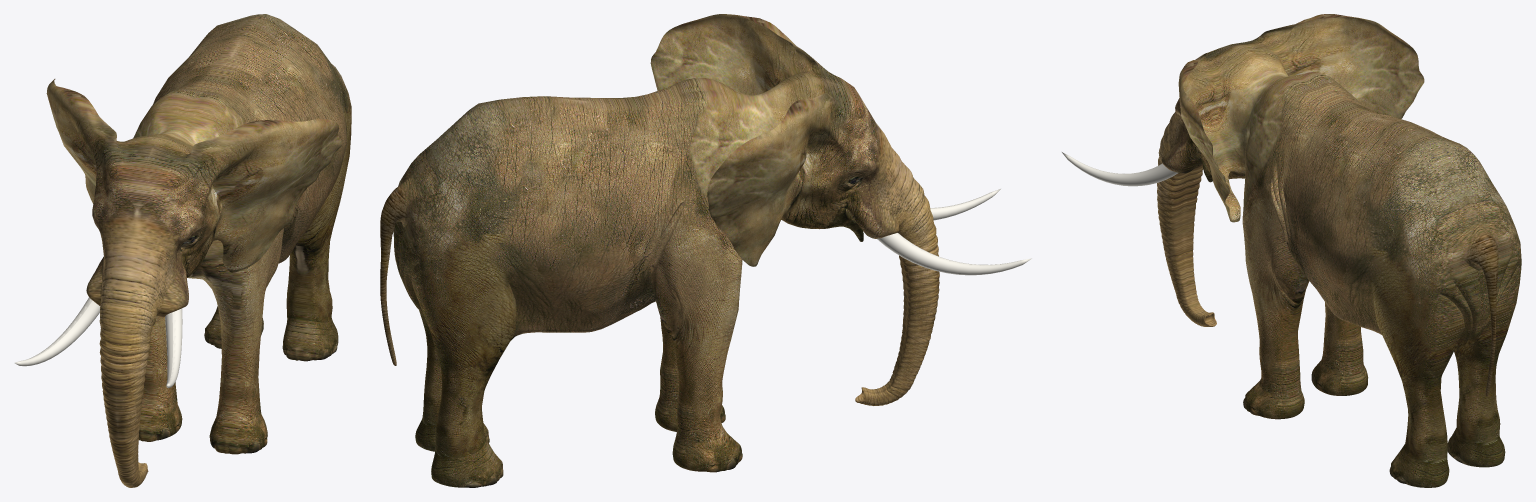
Rendered from maman_elephant.fbx.
3 renders of one model, left to right at view 1: azimuth 30°, elevation 25°; view 2: azimuth 150°, elevation 25°; view 3: azimuth 270°, elevation 25°, orthographic. The views are drawn at different scales.
Parts seen in each view (by area): view 1: MainEleM, EleTuskR, EleTuskL; view 2: MainEleM, EleTuskR; view 3: MainEleM, EleTuskL.
Boxes of the visible parts, x1,y1,x2,y2 form: MainEleM: [46, 14, 351, 487]; EleTuskR: [14, 297, 100, 366]; EleTuskL: [165, 308, 182, 388]; MainEleM: [380, 14, 939, 487]; EleTuskR: [877, 233, 1031, 275]; MainEleM: [1157, 14, 1521, 487]; EleTuskL: [1062, 152, 1177, 186].
Bounding box in the file's own units: 987 × 717 × 898.
3 materials, 1 textured.
